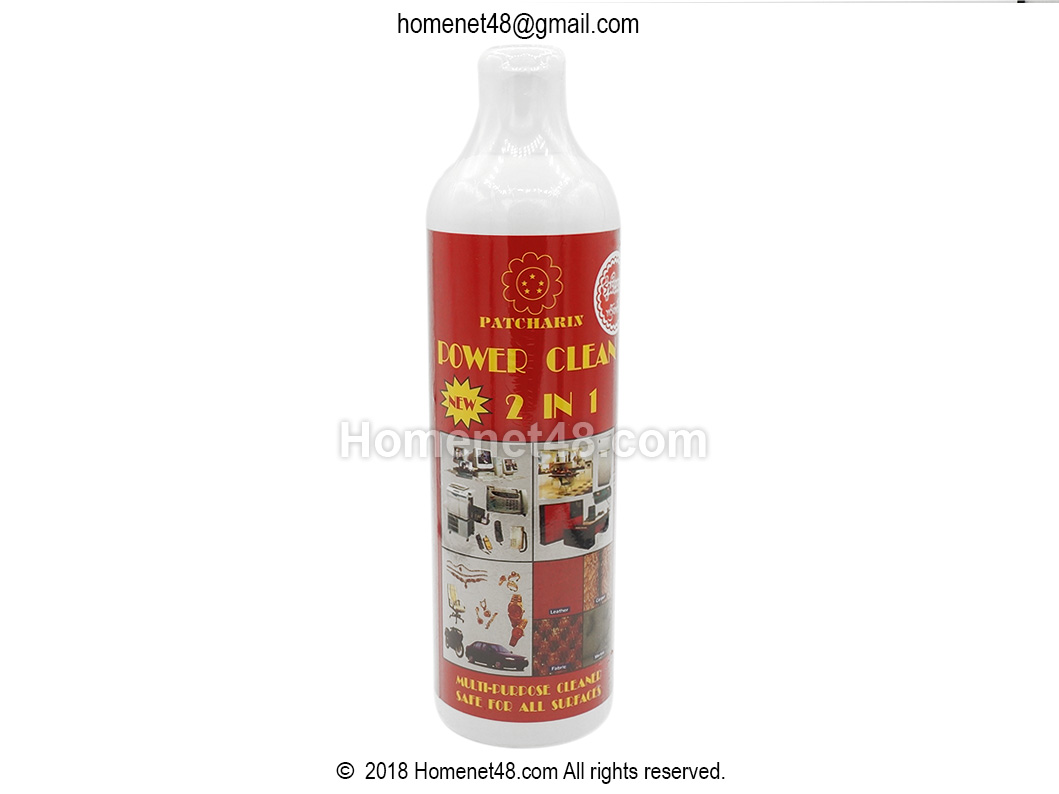Cleaning_solution: (418, 38, 629, 752)
